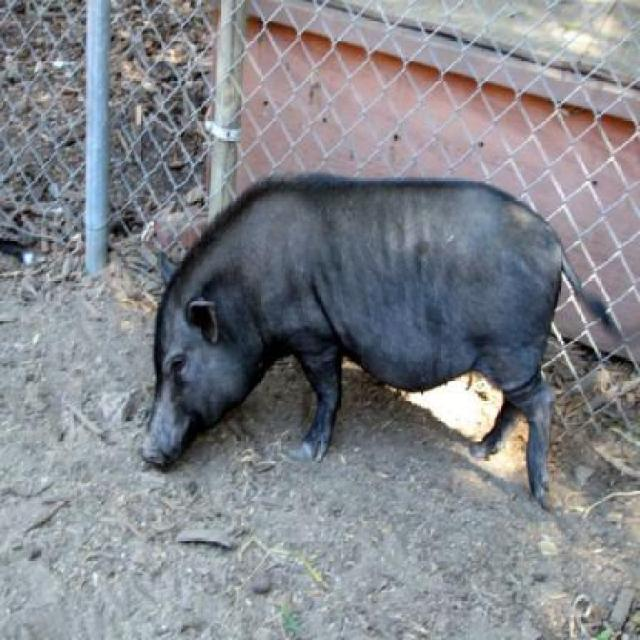Boar: (137, 171, 631, 512)
